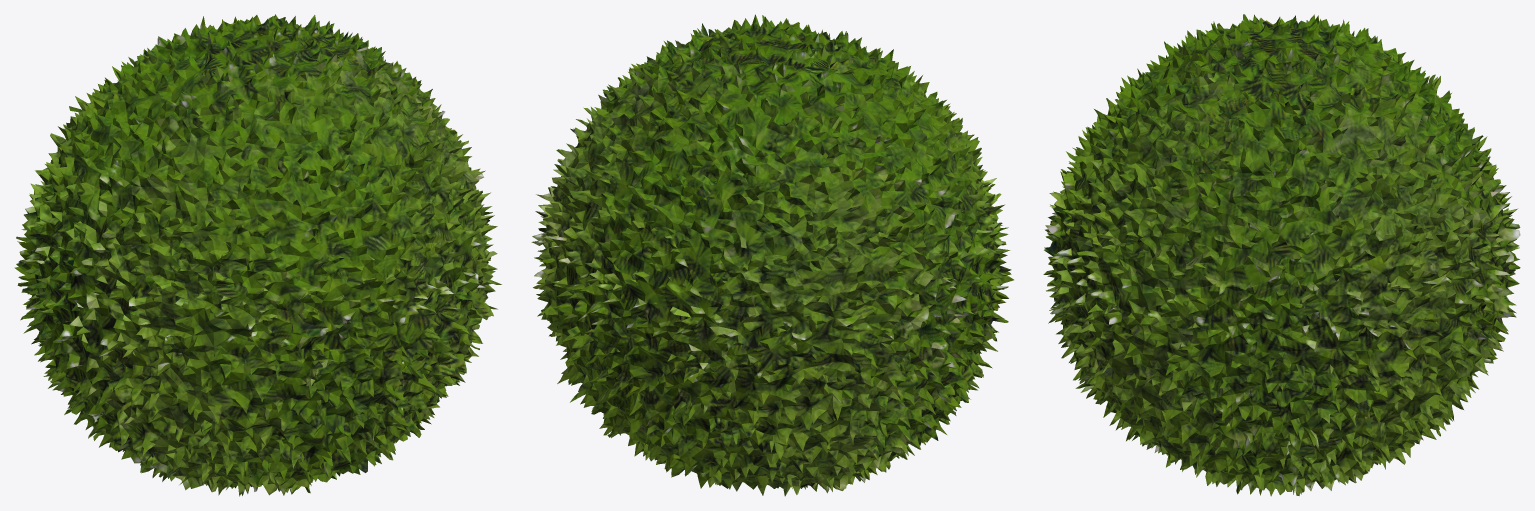
File: mdl_bush_001.glb
The picture shows the model from 3 angles, left to right: view 1: azimuth 30°, elevation 25°; view 2: azimuth 150°, elevation 25°; view 3: azimuth 270°, elevation 25°; orthographic projection.
Parts seen in each view (by area): view 1: tmpoa7p5zxt.ply; view 2: tmpoa7p5zxt.ply; view 3: tmpoa7p5zxt.ply.
Part boxes in pixels (x1,y1,x2,y2): tmpoa7p5zxt.ply: [14, 14, 501, 496]; tmpoa7p5zxt.ply: [531, 14, 1013, 496]; tmpoa7p5zxt.ply: [1043, 14, 1520, 496].
Size of the model in its own units: 1 by 0.9856 by 0.9862.
1 material, 1 textured.
